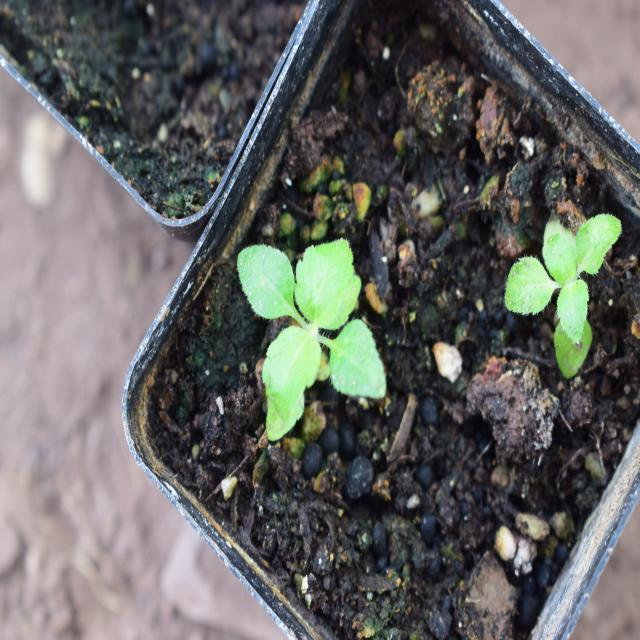billygoat_weed: (236, 222, 382, 431), (504, 195, 624, 372)
